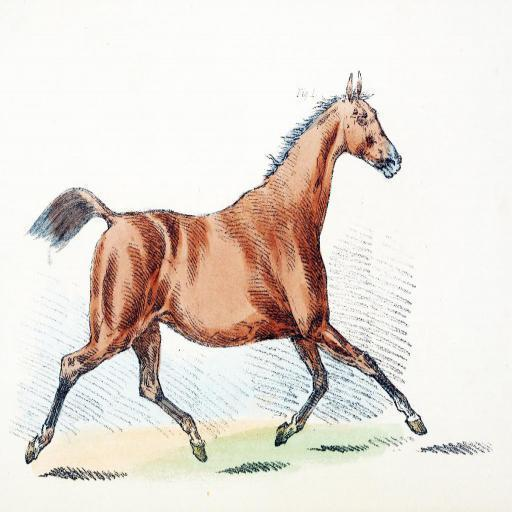horse: (25, 72, 428, 464)
